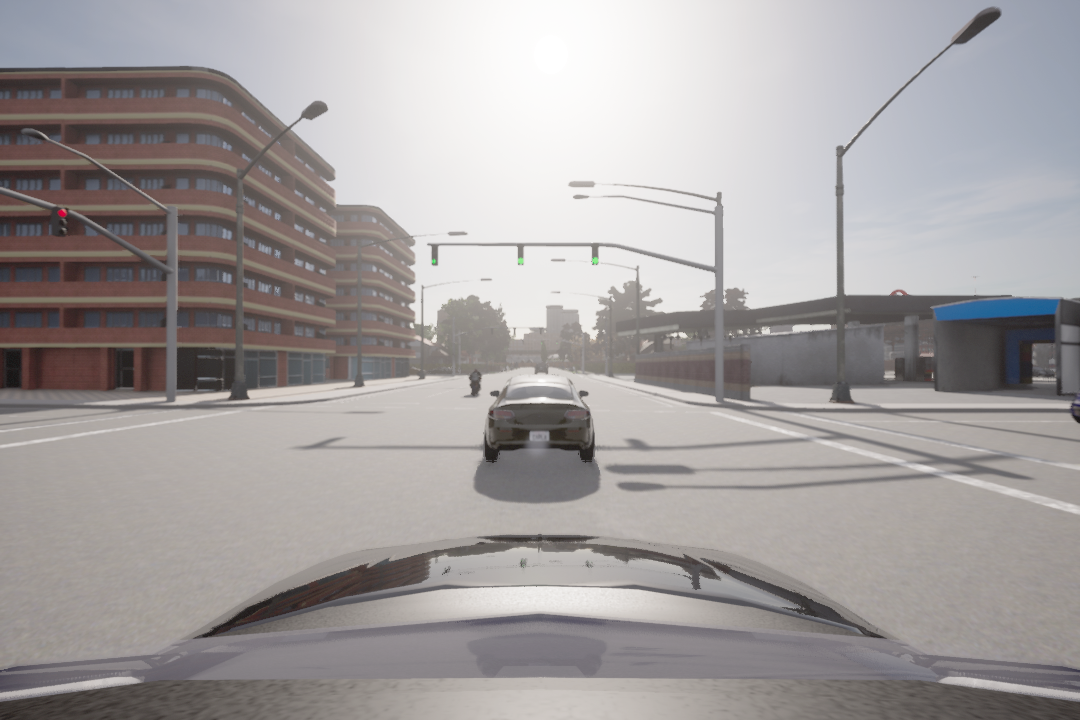TrafficLight: (51, 204, 69, 241), (428, 244, 440, 267), (591, 244, 601, 268), (516, 244, 525, 269)
